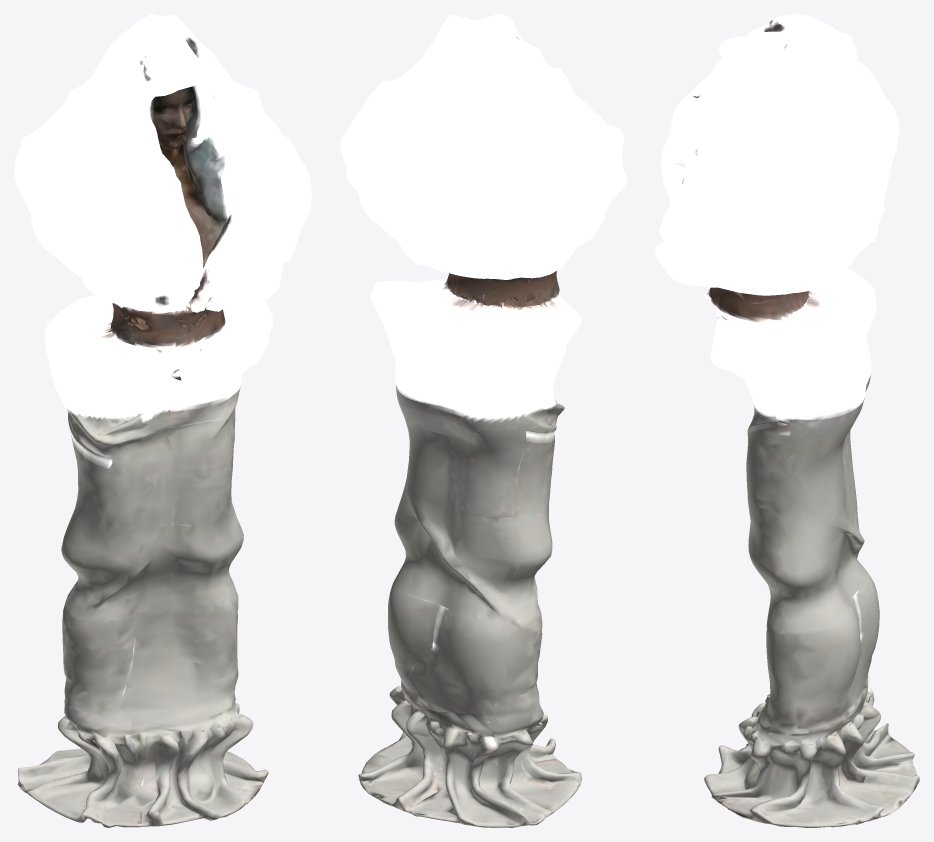
Rendered from emerge-c-preview.glb.
The picture shows the model from 3 angles, left to right: view 1: azimuth 30°, elevation 25°; view 2: azimuth 150°, elevation 25°; view 3: azimuth 270°, elevation 25°; orthographic projection.
Size of the model in its own units: 0.6101 by 1.75 by 0.5447.
1 material, 1 textured.
